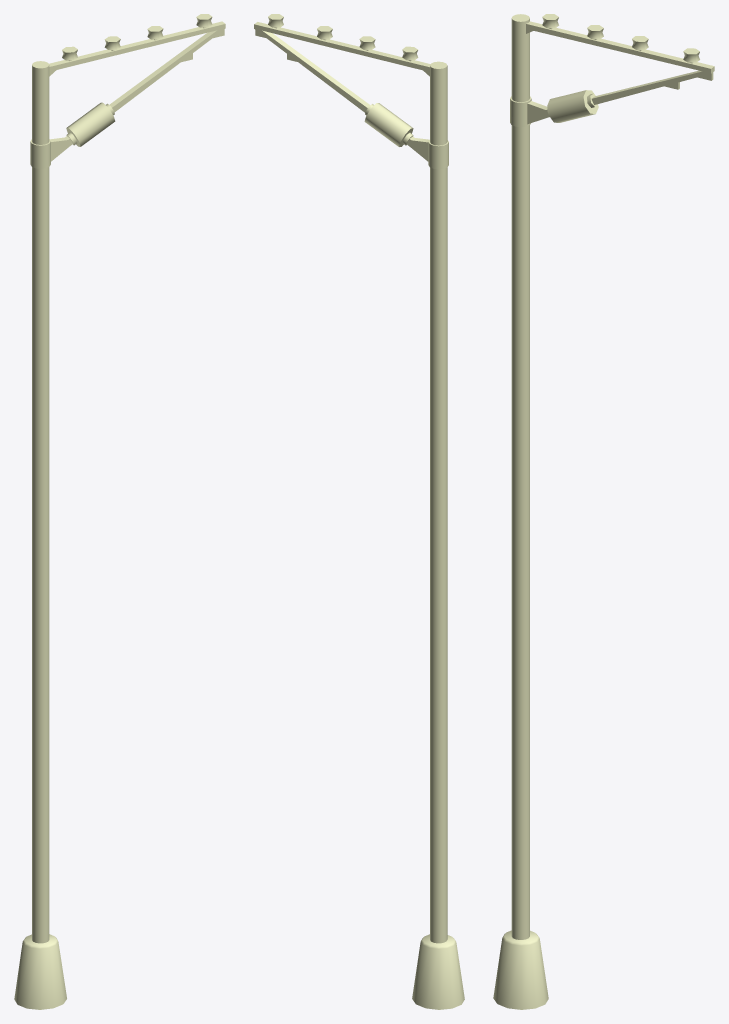
Rendered from utilitypole02b.fbx.
The picture shows the model from 3 angles, left to right: view 1: azimuth 30°, elevation 25°; view 2: azimuth 150°, elevation 25°; view 3: azimuth 330°, elevation 25°; orthographic projection. The views are drawn at different scales.
Parts seen in each view (by area): view 1: utilitypole02b_reference; view 2: utilitypole02b_reference; view 3: utilitypole02b_reference.
Boxes of the visible parts, left/top/right/bottom form: utilitypole02b_reference: left=14, top=14, right=225, bottom=1009; utilitypole02b_reference: left=254, top=14, right=464, bottom=1009; utilitypole02b_reference: left=493, top=14, right=714, bottom=1009.
Bounding box in the file's own units: 10825 × 47294 × 2308.
